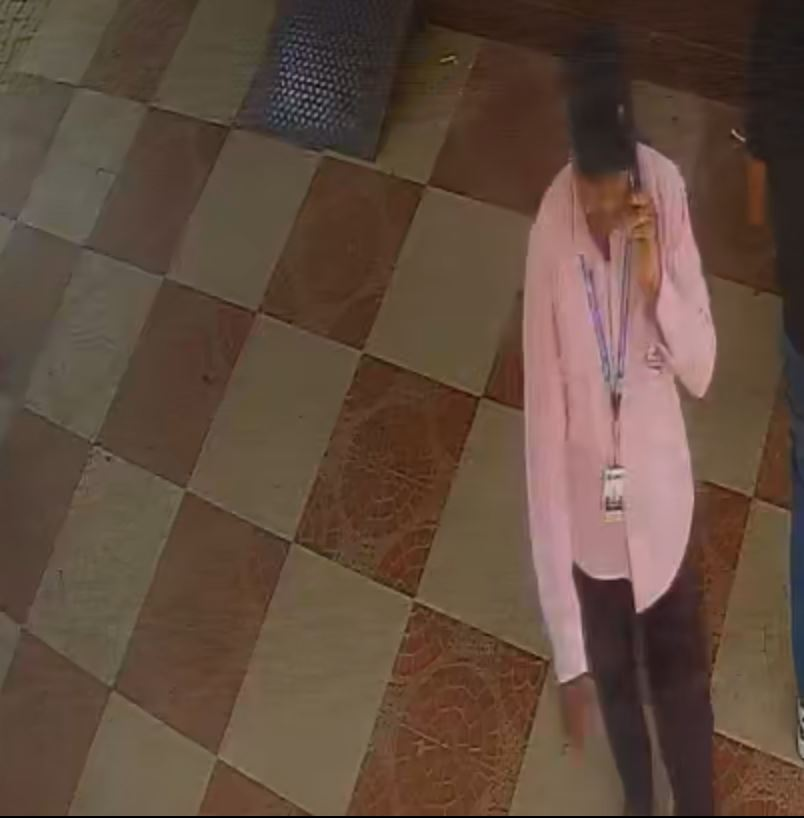not intruder: (498, 13, 746, 808)
